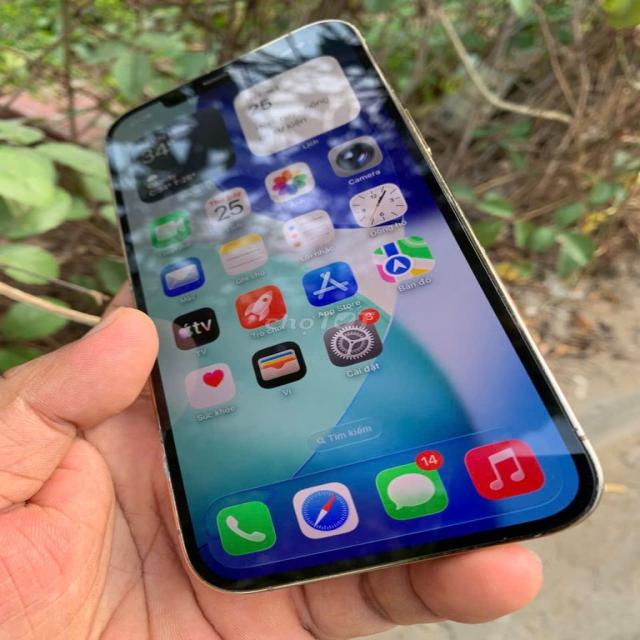gen_12_13: (100, 21, 607, 600)
